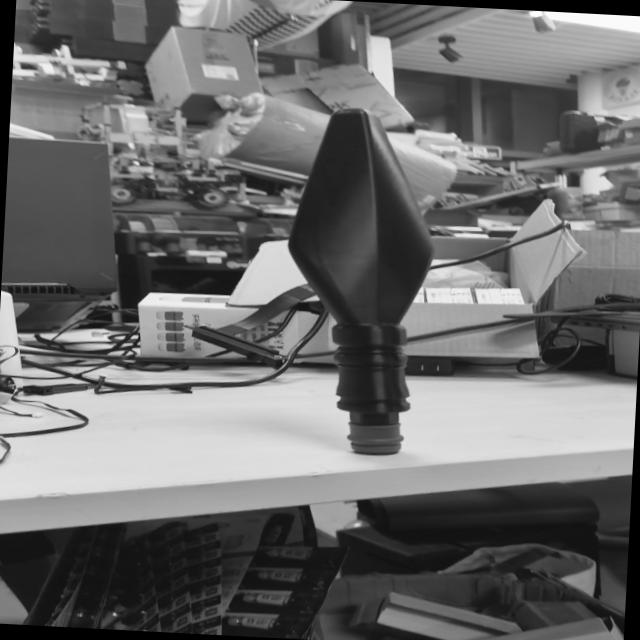base: (337, 418, 410, 462)
